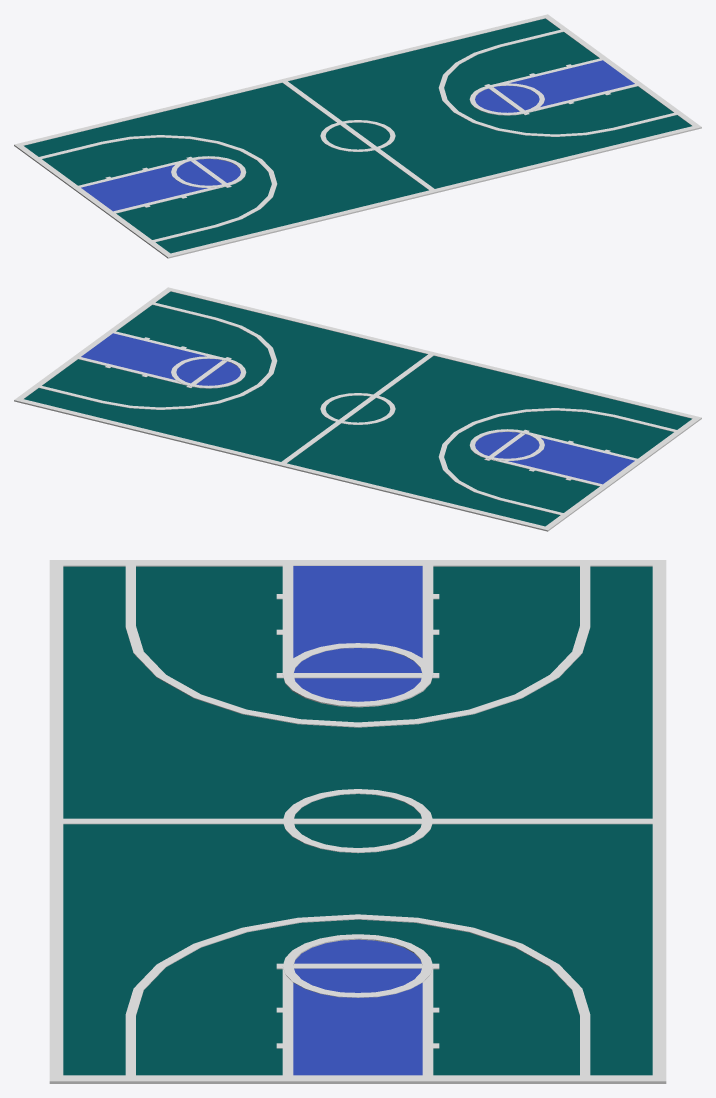
The model's file is Basketball_Court_3.fbx.
3 renders of one model, top to bottom at view 1: azimuth 30°, elevation 25°; view 2: azimuth 150°, elevation 25°; view 3: azimuth 270°, elevation 25°, orthographic. The views are drawn at different scales.
Visible parts, largest first — view 1: Basketball_Court_3; view 2: Basketball_Court_3; view 3: Basketball_Court_3.
Part boxes in pixels (x1,y1,x2,y2): Basketball_Court_3: [14, 14, 701, 258]; Basketball_Court_3: [14, 287, 701, 531]; Basketball_Court_3: [49, 560, 666, 1083].
Size of the model in its own units: 1600 by 4.45 by 800.
